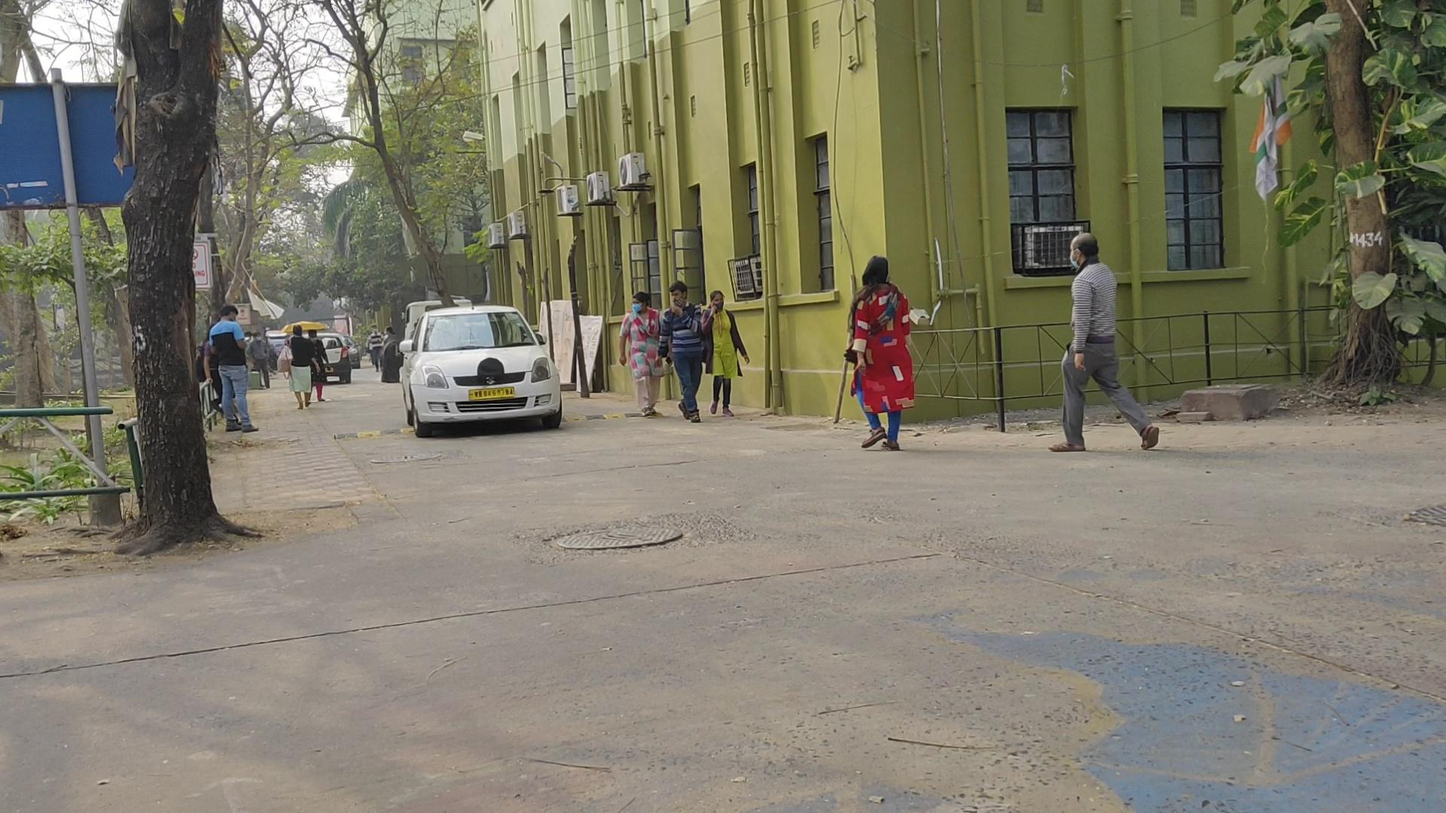car: (396, 305, 562, 437), (296, 332, 352, 385)
